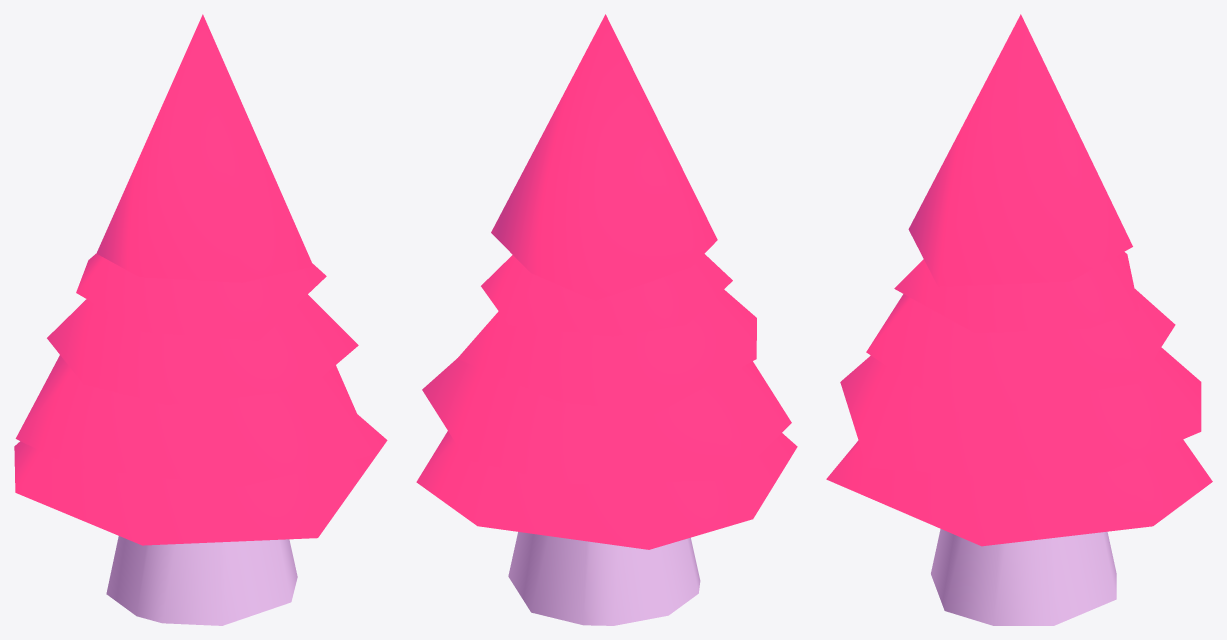
File: FolklostSilverwood.fbx
3 renders of one model, left to right at view 1: azimuth 30°, elevation 25°; view 2: azimuth 150°, elevation 25°; view 3: azimuth 270°, elevation 25°, orthographic.
Visible parts, largest first — view 1: polySurface1; view 2: polySurface1; view 3: polySurface1.
Part boxes in pixels (x1=…): polySurface1: x1=14, y1=14, x2=387, y2=625; polySurface1: x1=416, y1=14, x2=797, y2=625; polySurface1: x1=826, y1=14, x2=1212, y2=625.
Bounding box in the file's own units: 3.56 × 5.85 × 3.58.
